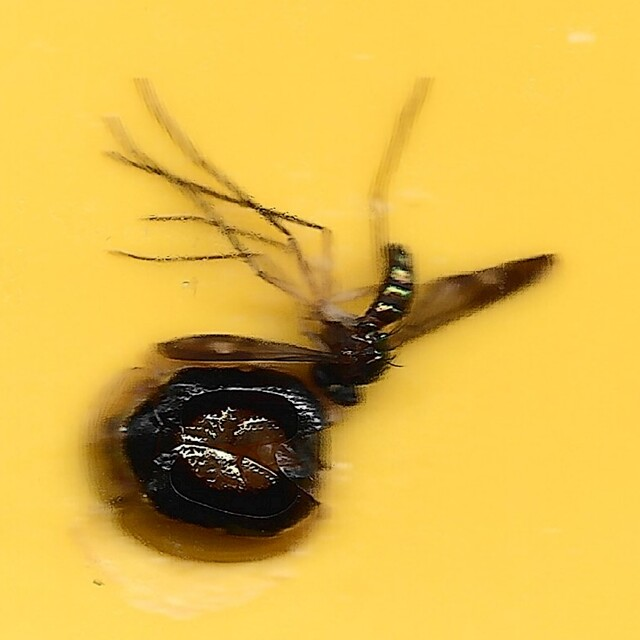Brachycera: (105, 75, 559, 410)
Coleoptera: (81, 361, 341, 565)
